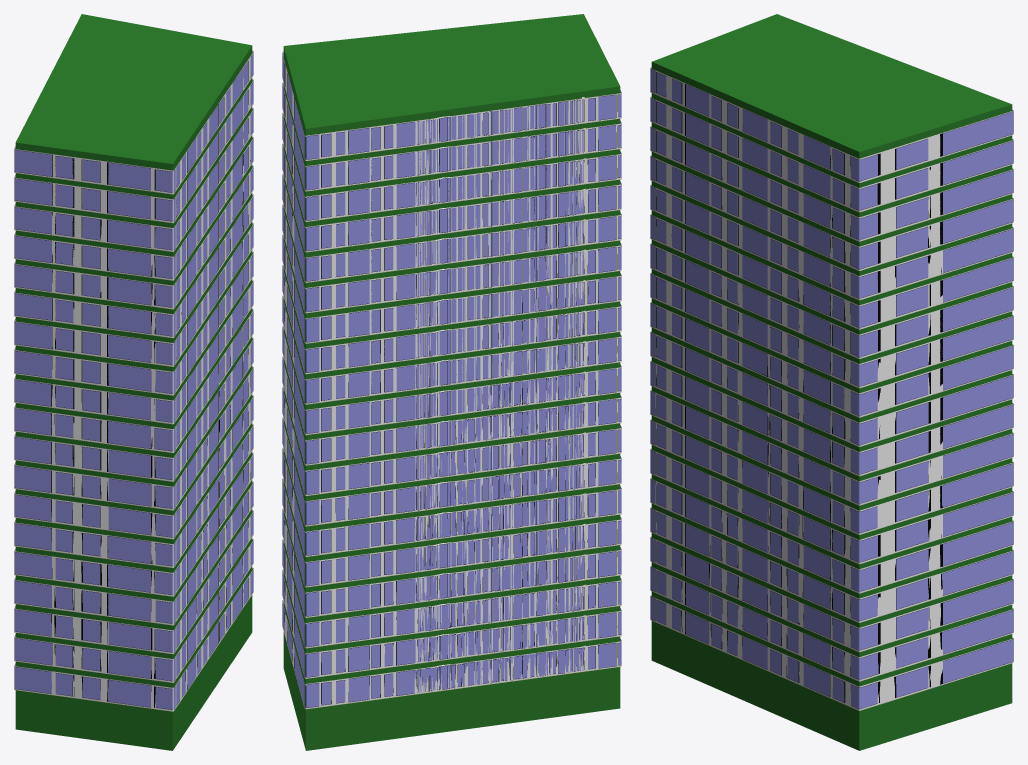
Rendered from FourBeachfrontAvenue.fbx.
3 renders of one model, left to right at view 1: azimuth 30°, elevation 25°; view 2: azimuth 150°, elevation 25°; view 3: azimuth 270°, elevation 25°, orthographic. The views are drawn at different scales.
Parts seen in each view (by area): view 1: 4BeachfrontAvenue; view 2: 4BeachfrontAvenue; view 3: 4BeachfrontAvenue.
Part boxes in pixels (box(x1,y1,x2,y2)): 4BeachfrontAvenue: box(14, 14, 253, 750); 4BeachfrontAvenue: box(282, 14, 621, 750); 4BeachfrontAvenue: box(650, 14, 1013, 750).
Size of the model in its own units: 2493 by 5000 by 2747.
